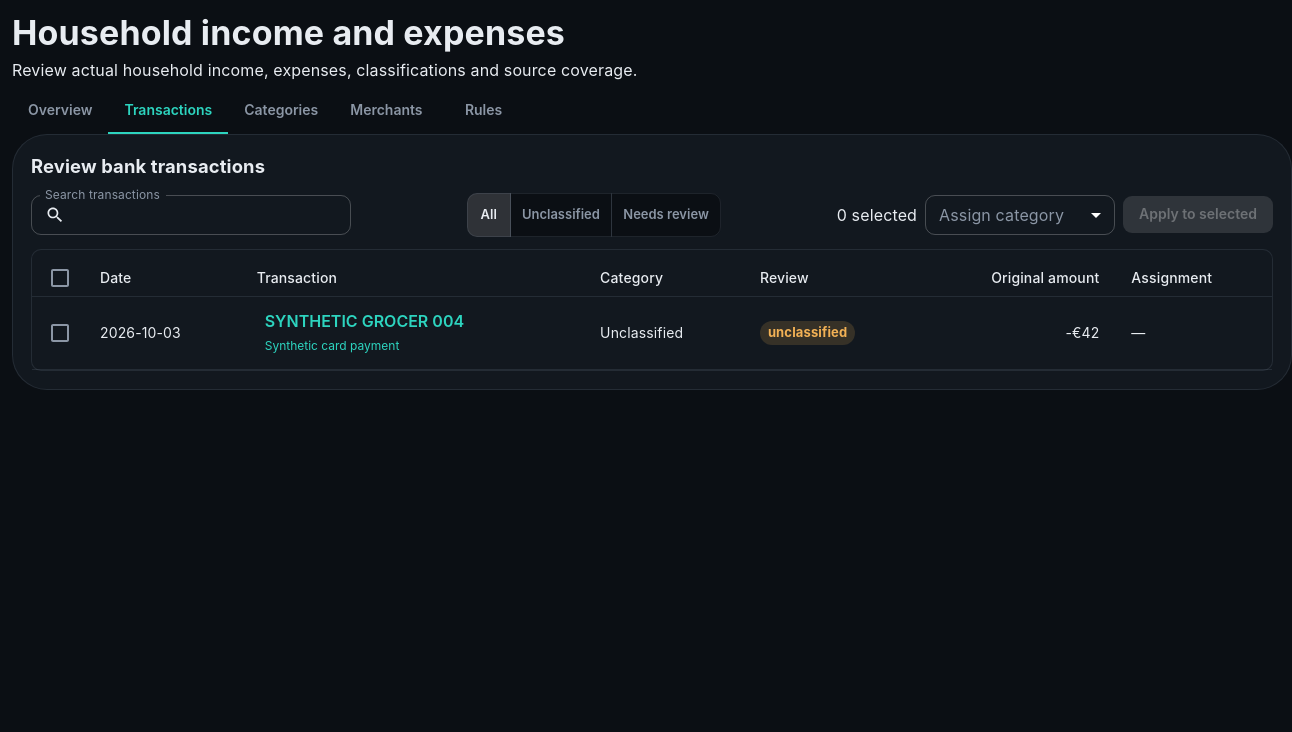
Test: household live API wiring › keeps bulk categorization from confirming a first merchant identity
This screenshot has width=1292, height=732.
Click the checkbox named "Select Synthetic card payment": (60, 333) [48,321,72,345]
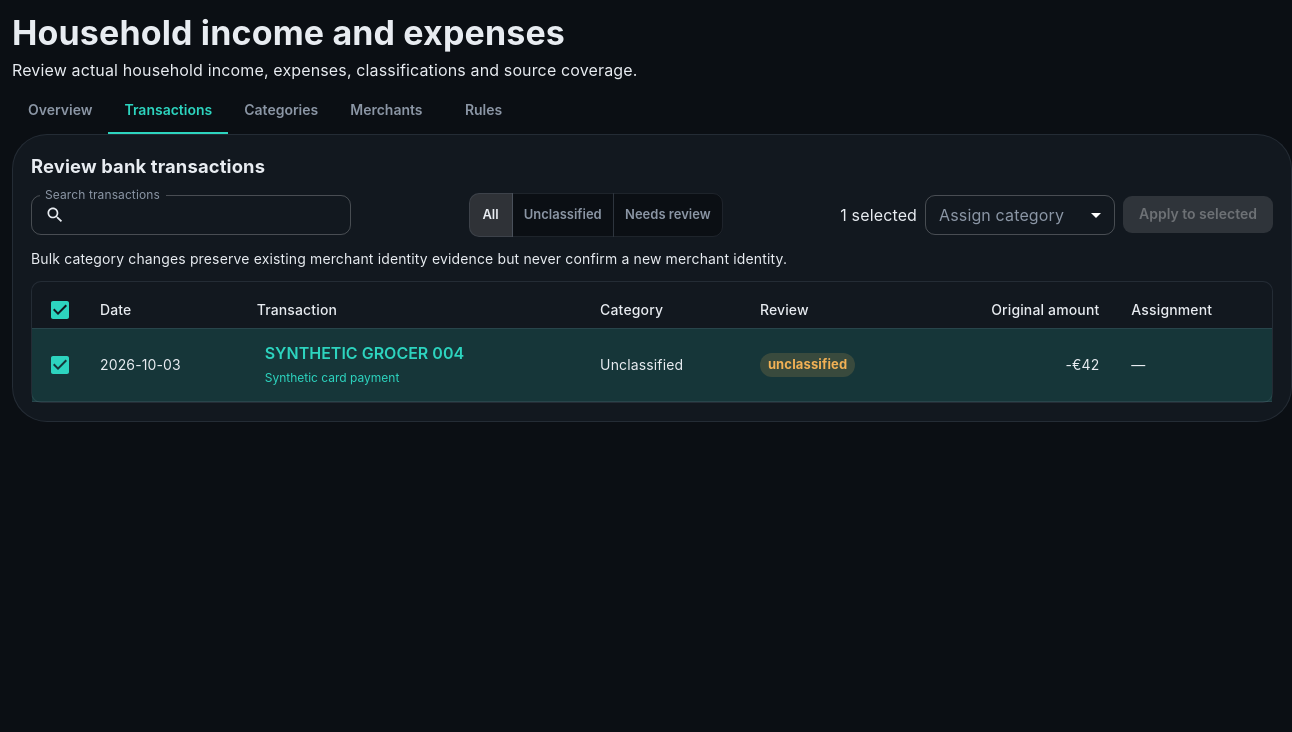
Click the dropdown named "Assign category": (1020, 215) [925,195,1115,235]
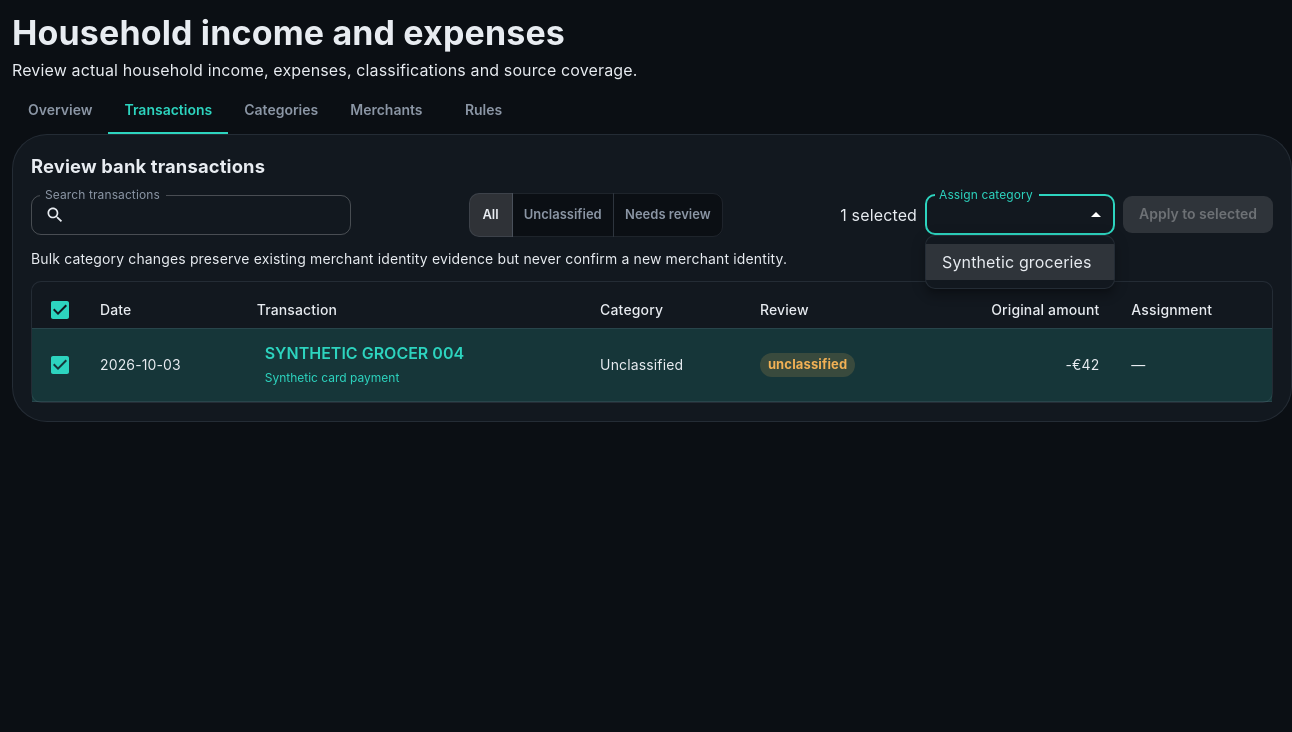
Click the option "Synthetic groceries": (1020, 262) [926,244,1114,280]
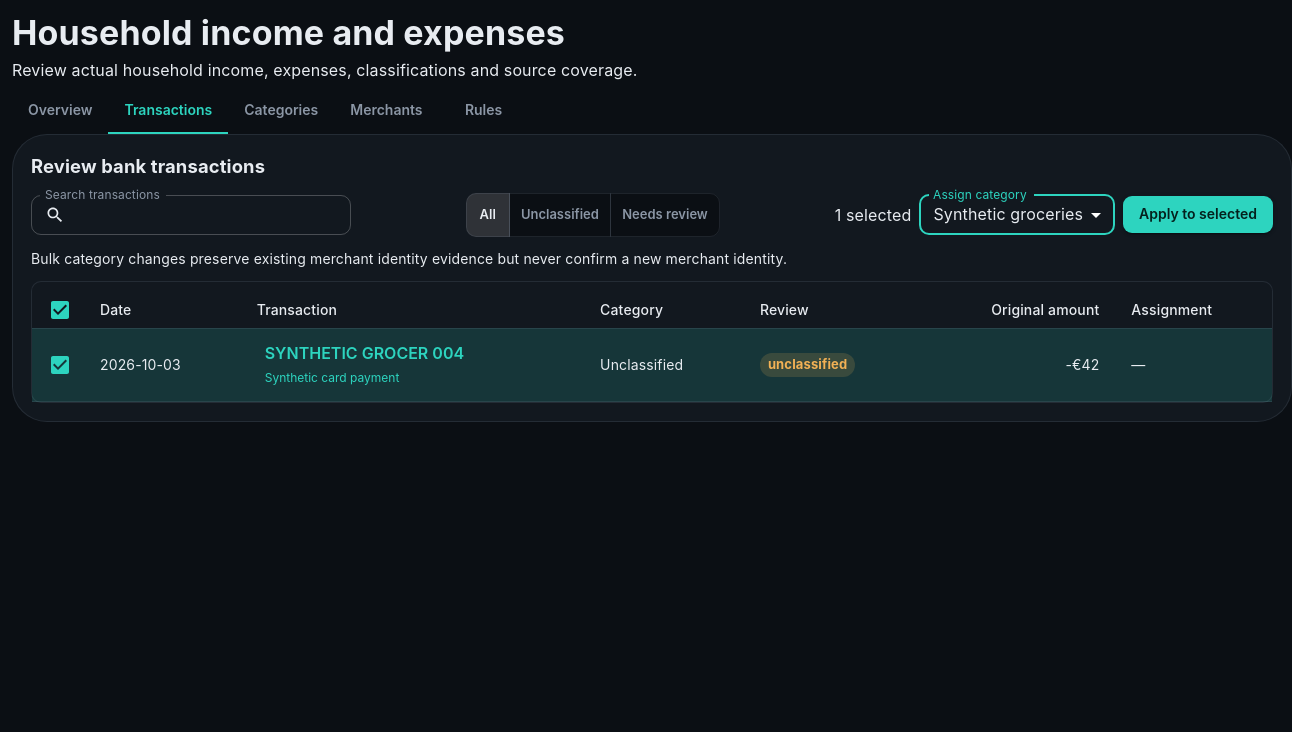
Click the button "Apply to selected": (1198, 215) [1123,196,1273,233]
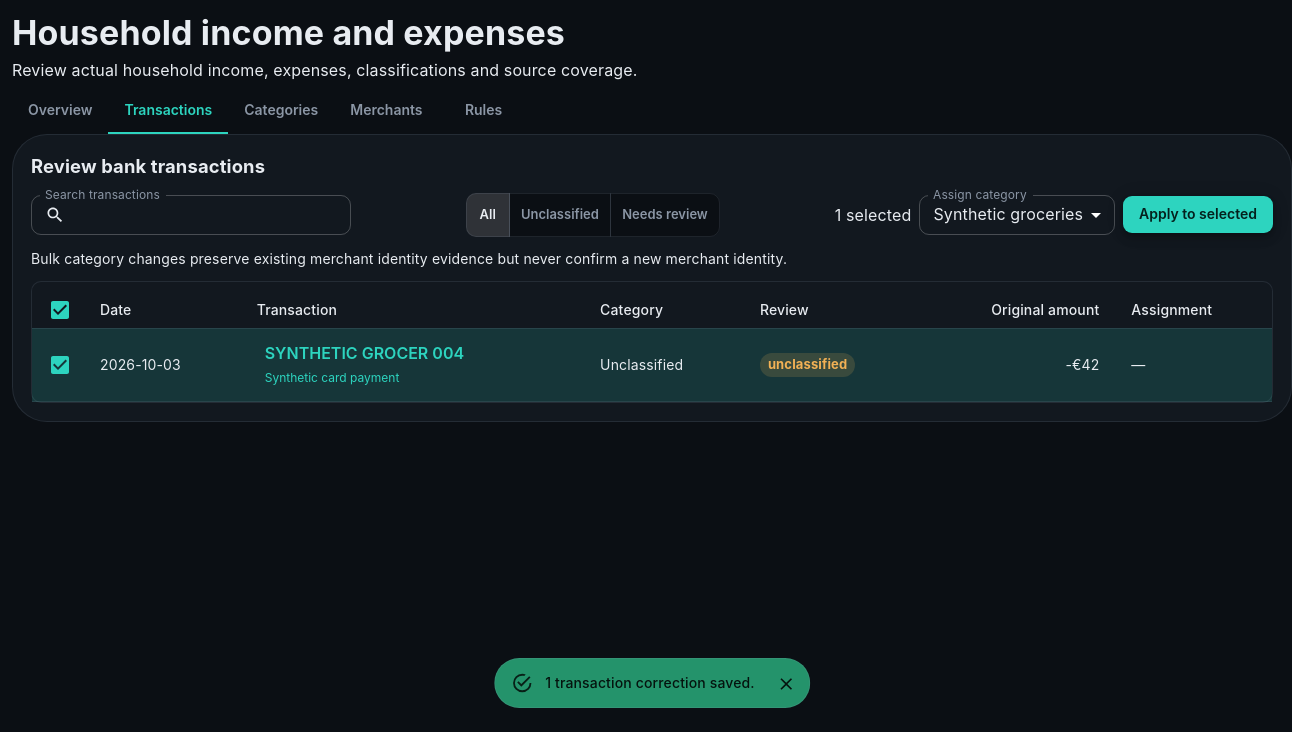
Check: the text "1 transaction correction saved." is shown, box [545,674,755,691]
